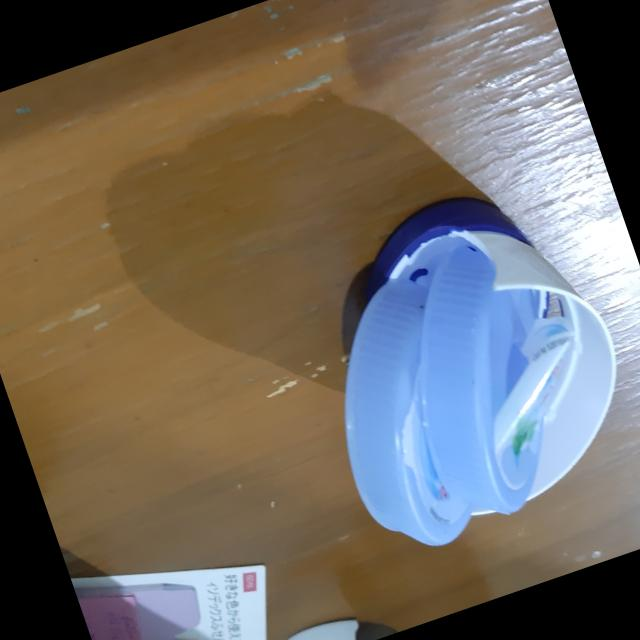TutupGalon: (275, 162, 640, 568)
